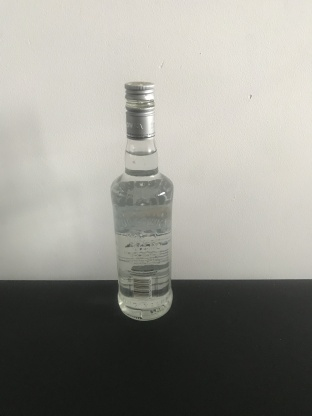nakretka: (123, 79, 156, 140), (122, 71, 126, 80)
